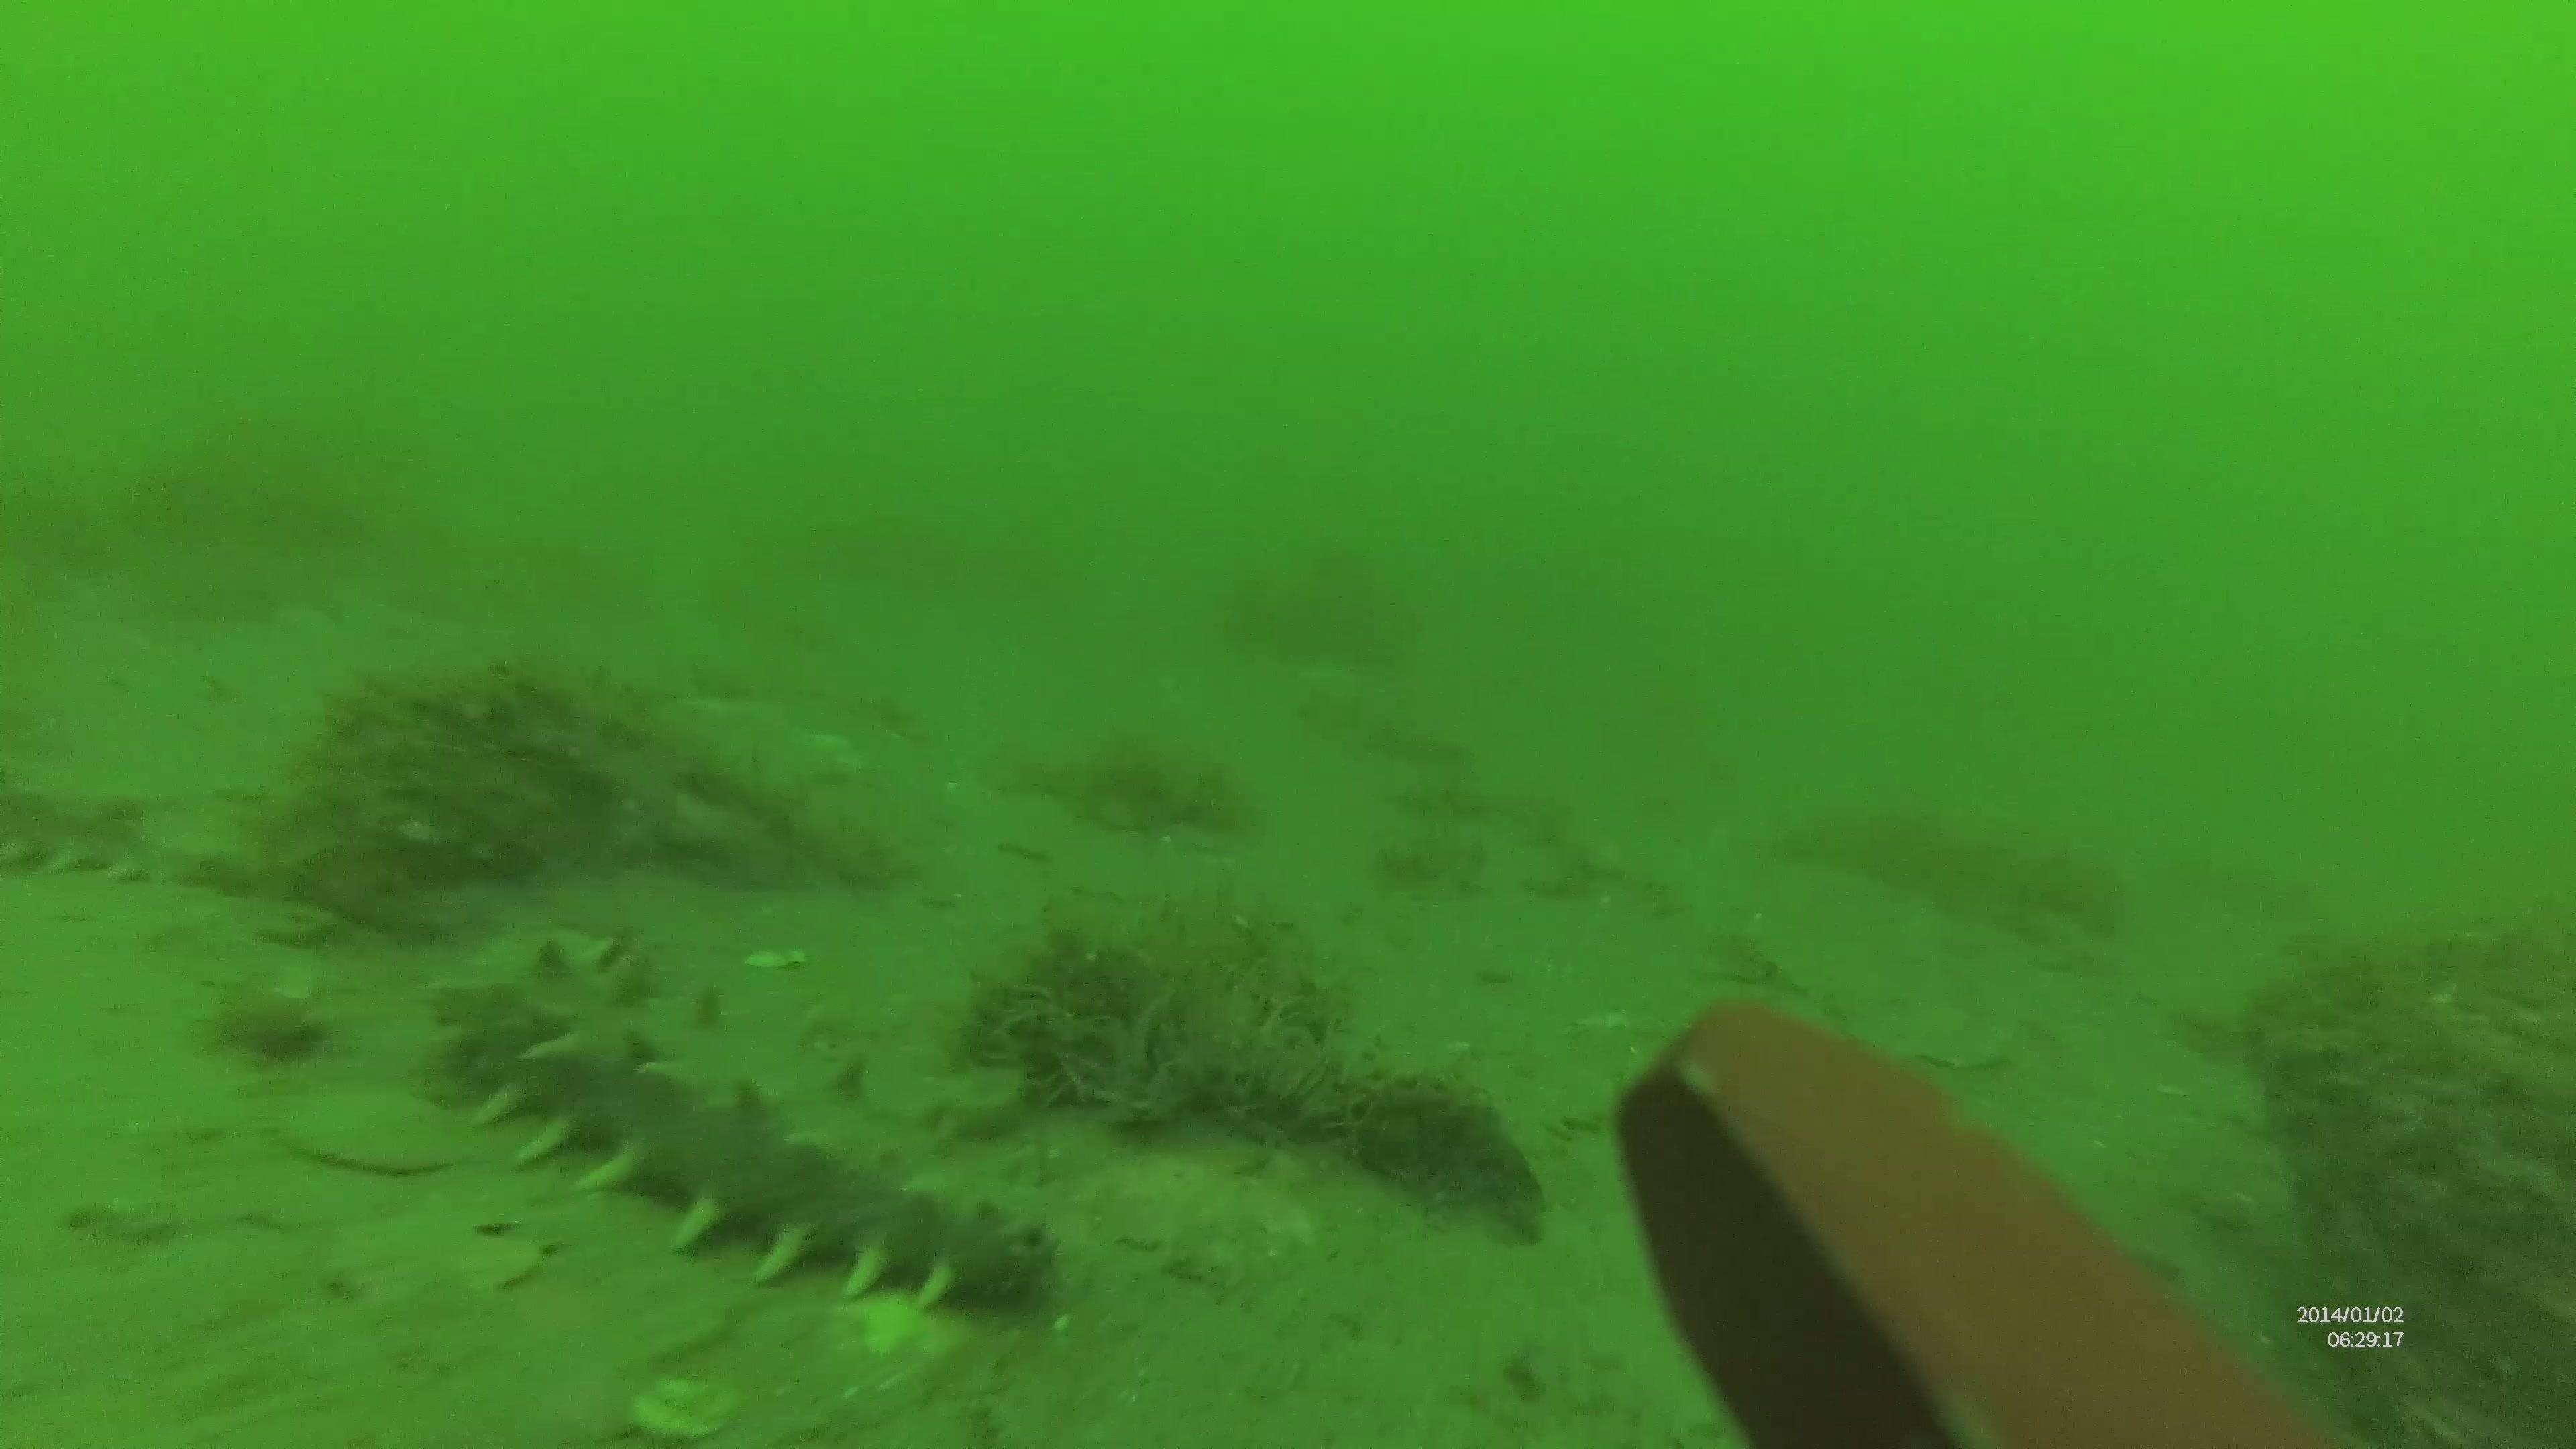holothurian: (430, 927, 1063, 1320), (4, 777, 274, 893)
scallop: (267, 1076, 492, 1182)
